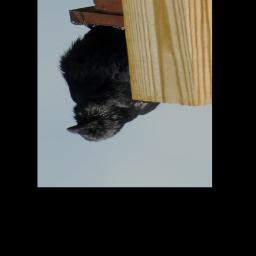Crow: (55, 19, 160, 143)
